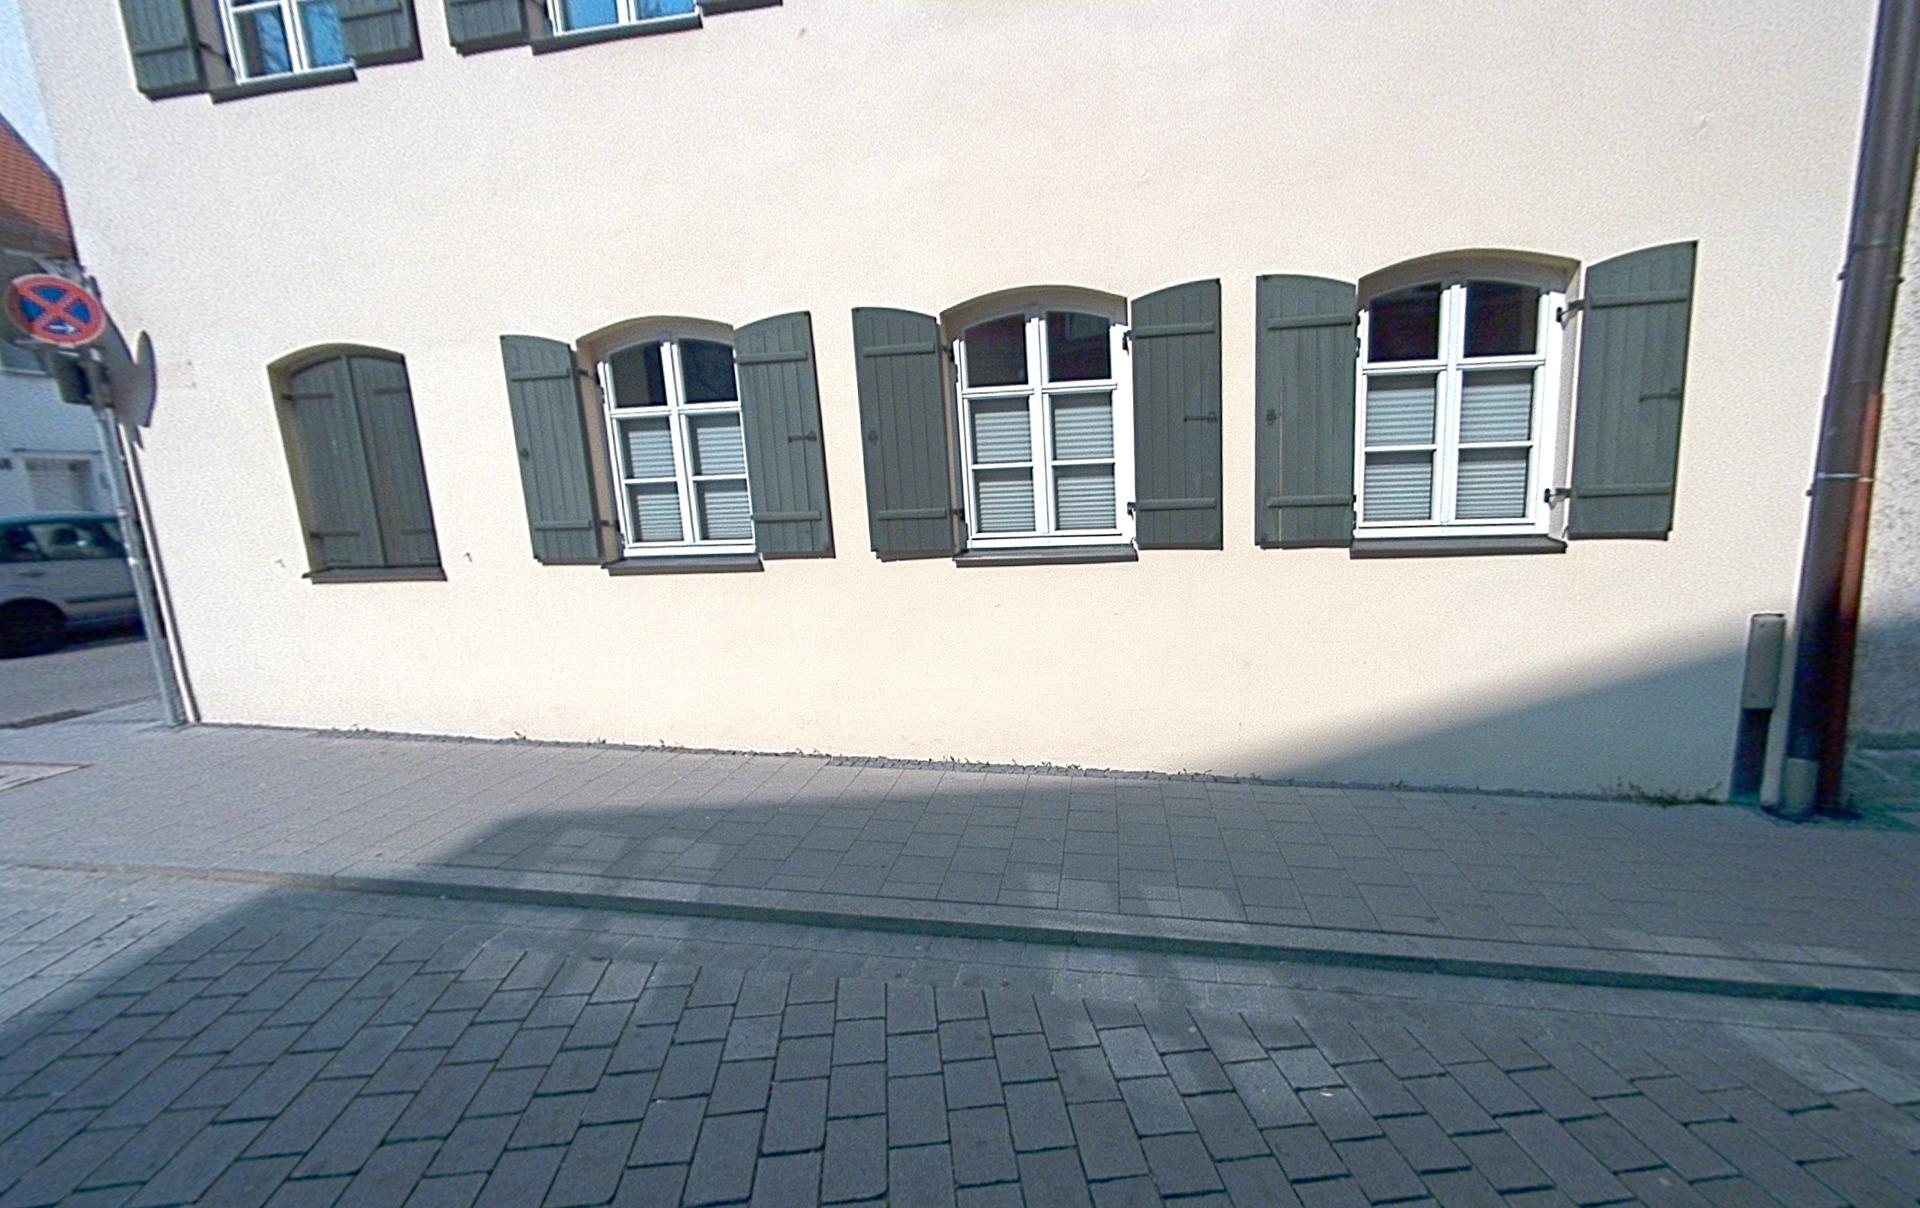car: (0, 509, 149, 658)
traffic sign: (3, 271, 109, 351)
